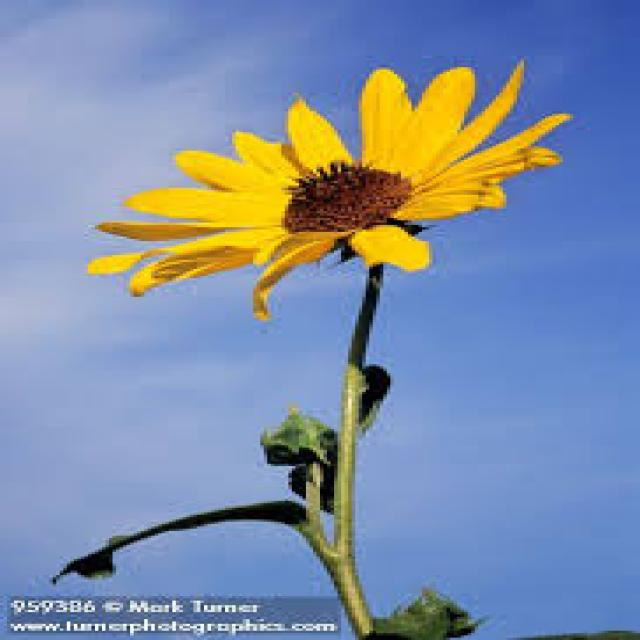sunflower: (77, 51, 578, 332)
